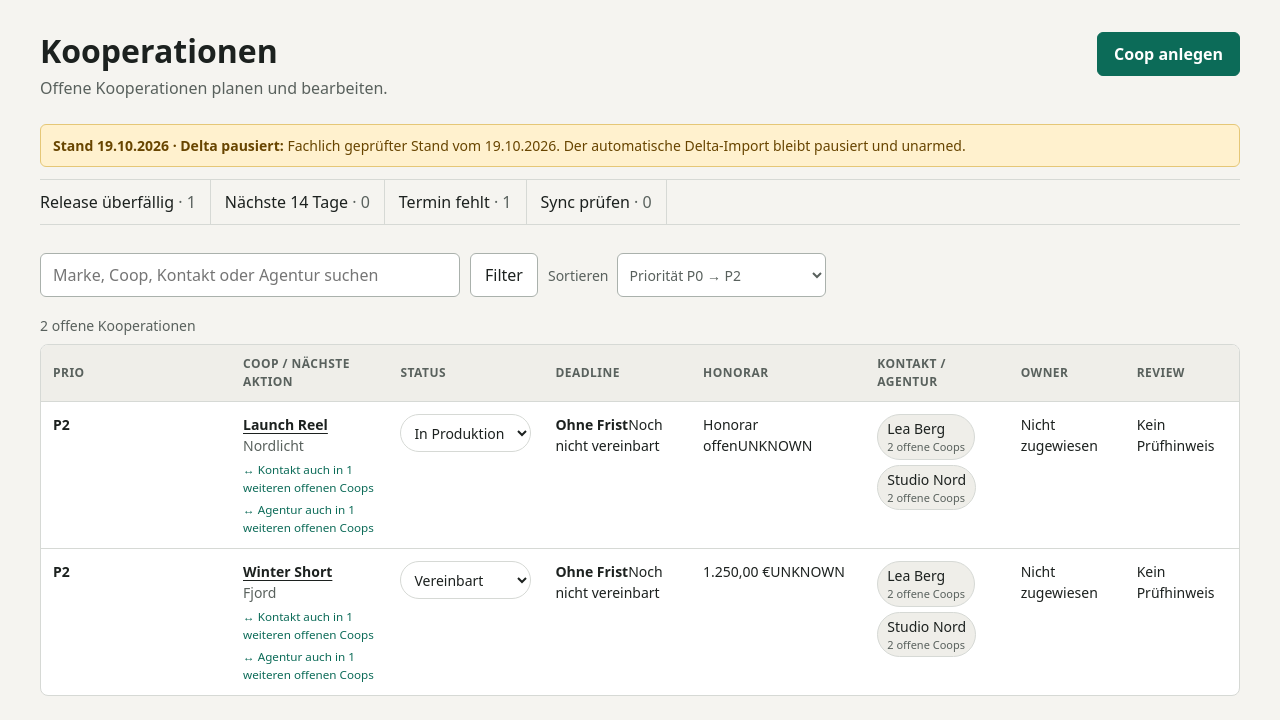
Test: CoopWorkspace › verhindert Eingeplant ohne Release-Datum vor dem API-Aufruf
Select "Eingeplant" in the dropdown named "Status für Launch Reel ändern" at (466, 433), box [400,414,531,452]
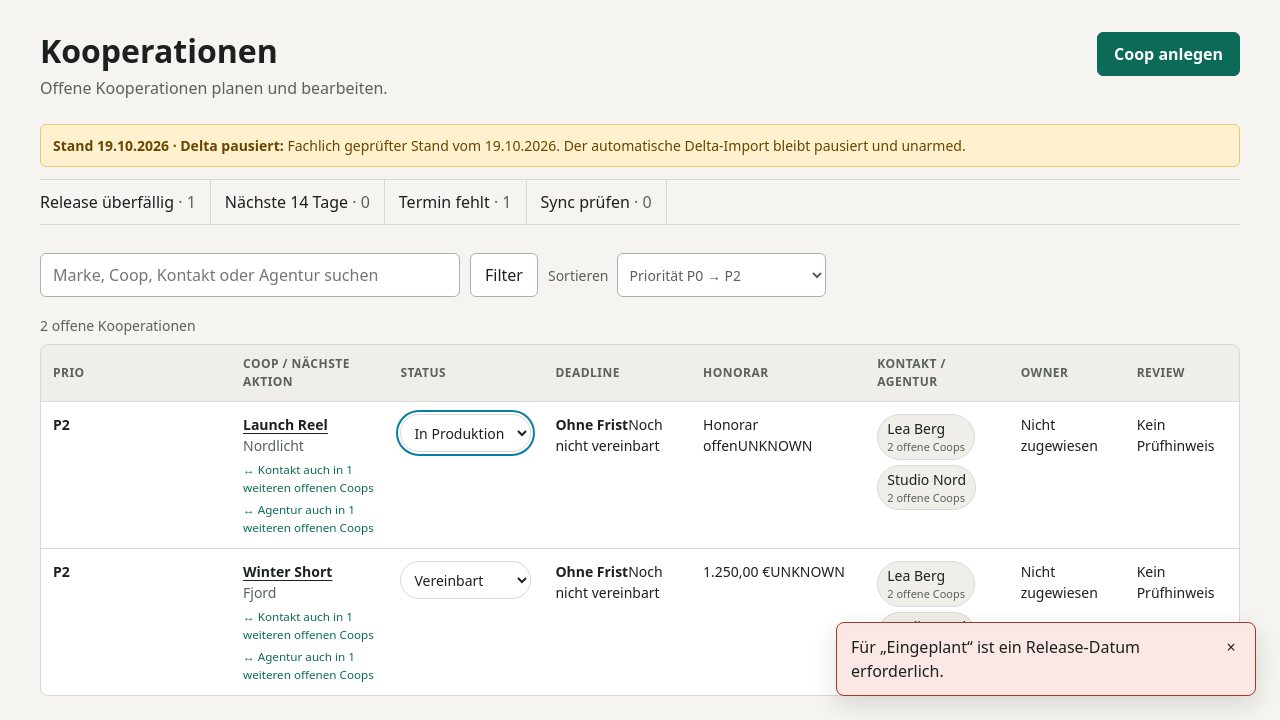
Now the message shows "Release-Datum erforderlich", box [851,636,1140,682]
